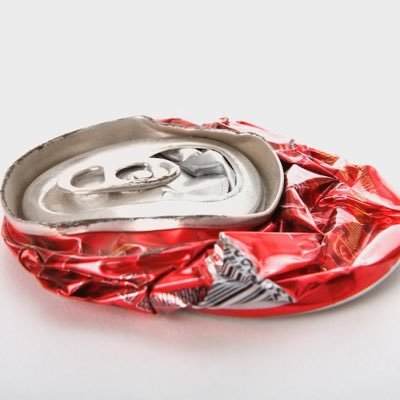can: (1, 111, 400, 318)
